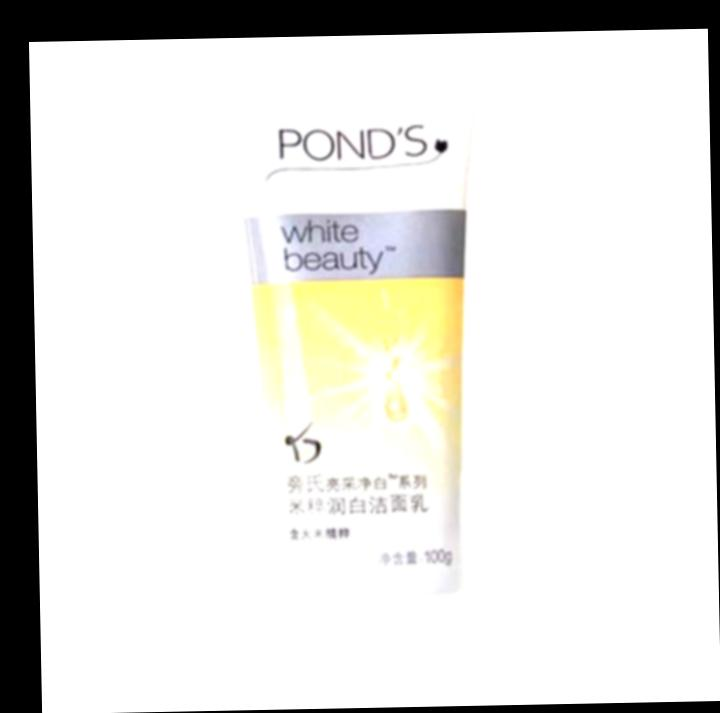cosmetic: (221, 63, 491, 686)
